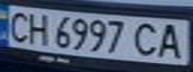6: (48, 14, 72, 50)
7: (106, 17, 130, 54)
9: (66, 16, 90, 52), (87, 17, 109, 53)
A: (154, 20, 187, 60)
C: (130, 20, 163, 57), (3, 8, 33, 43)
H: (21, 10, 51, 46)
